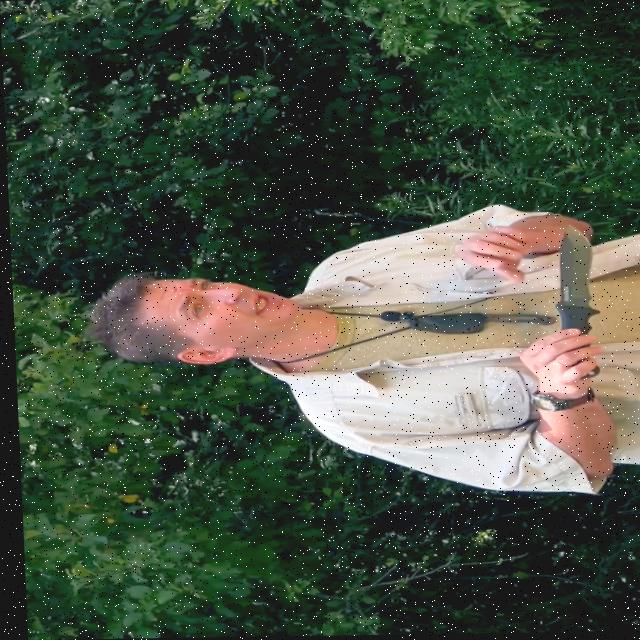knife: (550, 224, 599, 336)
